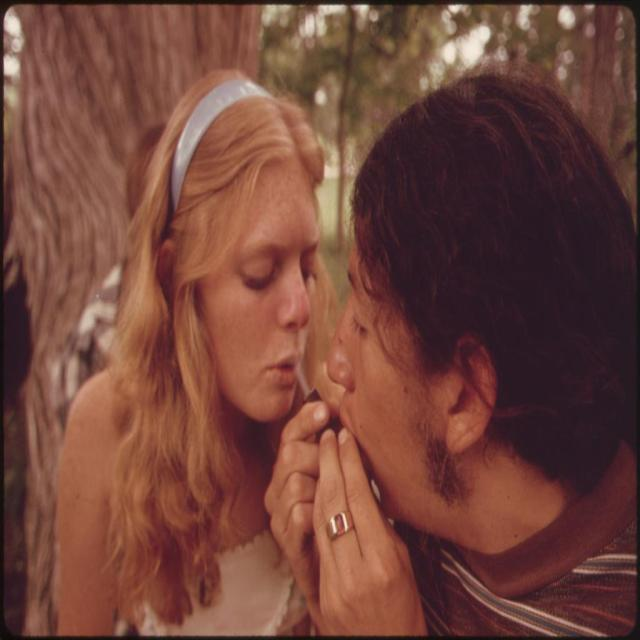smoking: (254, 75, 518, 522)
